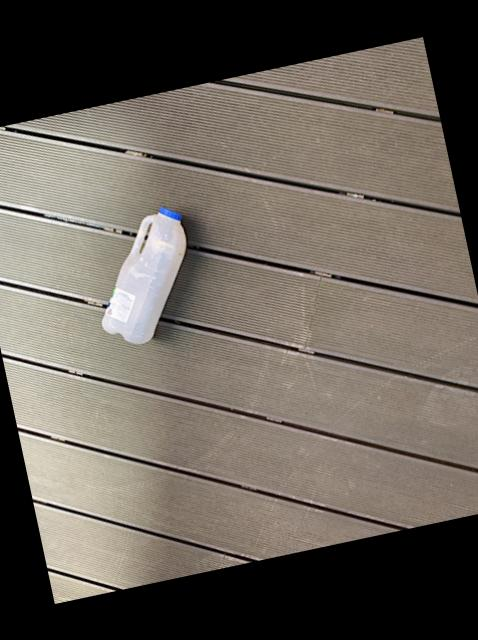plastic: (99, 207, 183, 343)
